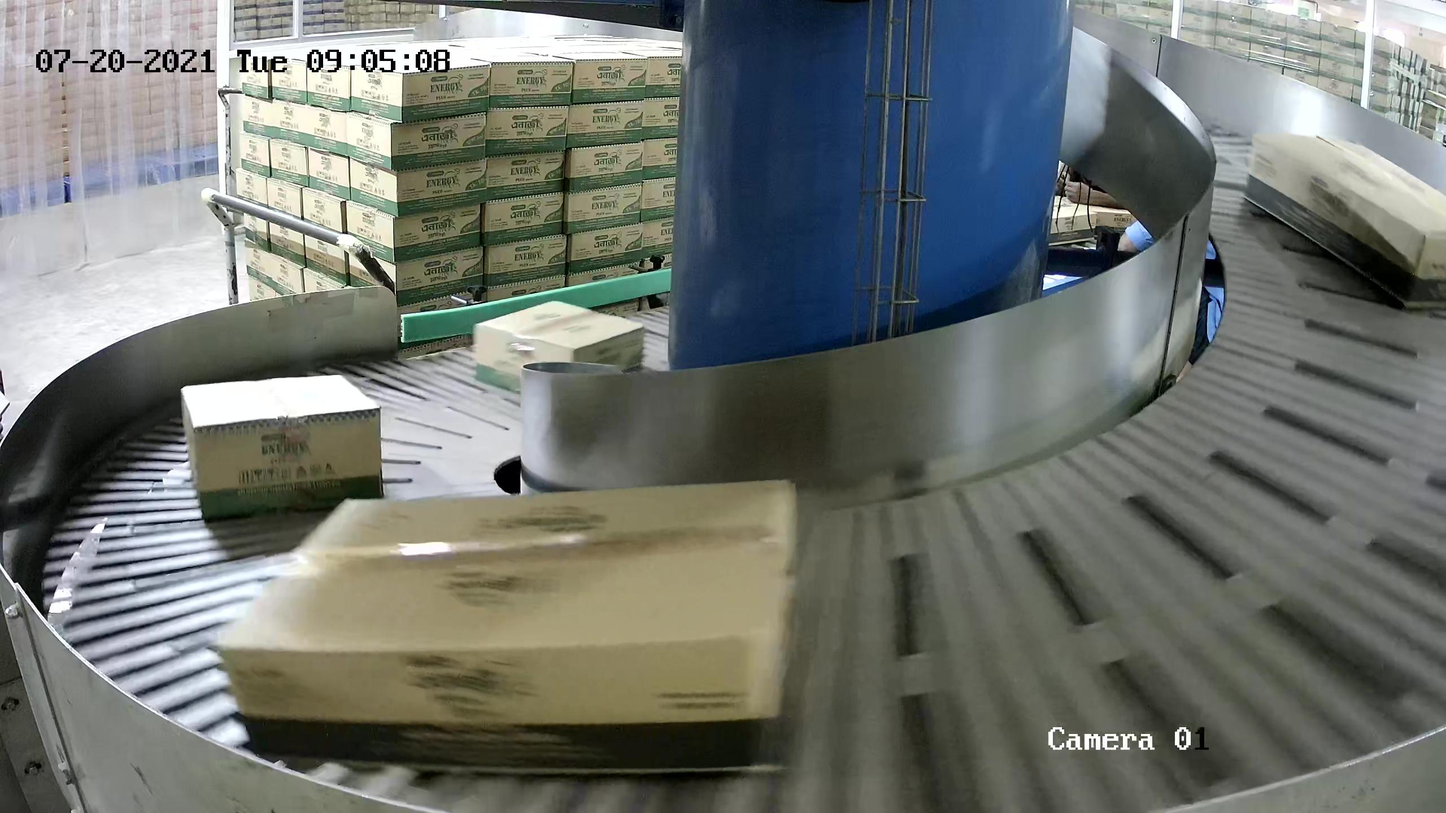Box: (210, 472, 802, 781), (1240, 128, 1446, 314), (178, 371, 385, 519), (472, 298, 646, 396)
